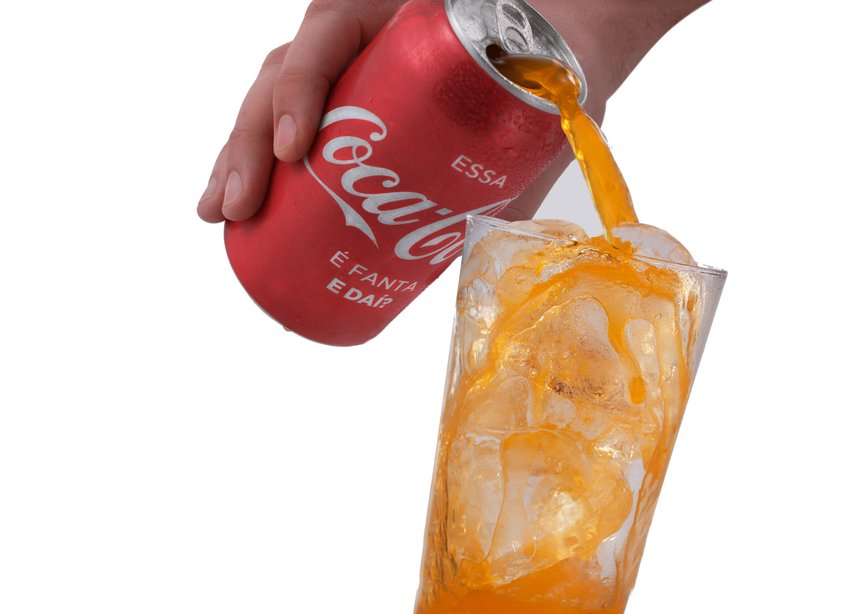Coca-Cola: (246, 20, 440, 339)
